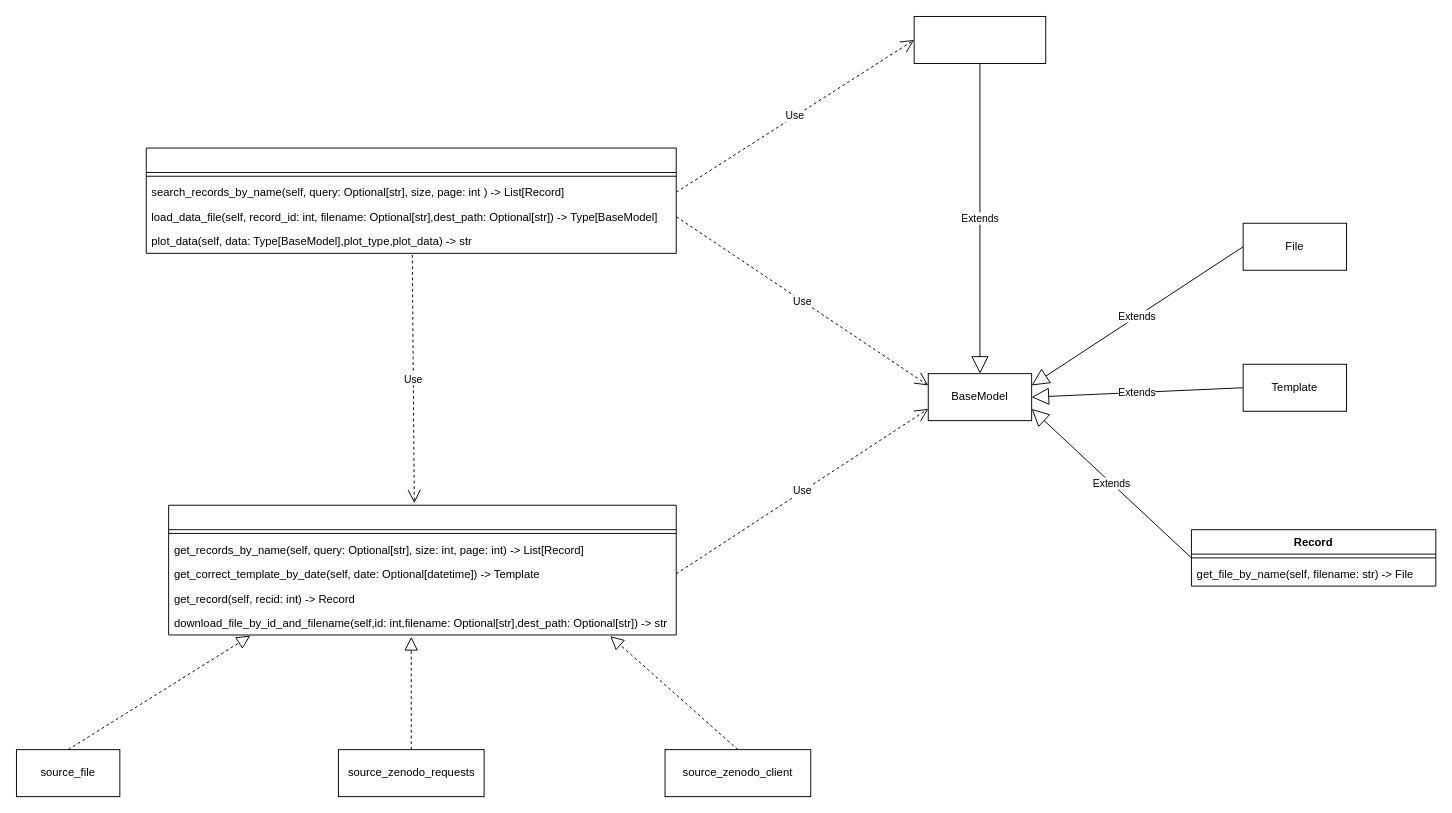
Some shapes in this 1452 by 813 pixel diagram are drawn without their labels. The box of each missing label's shape, as (x1, y1, x2, y2) in pixels:
DynamicConversor: (913, 16, 1046, 63)
Service: (145, 147, 676, 253)
source_interface: (168, 504, 676, 635)
